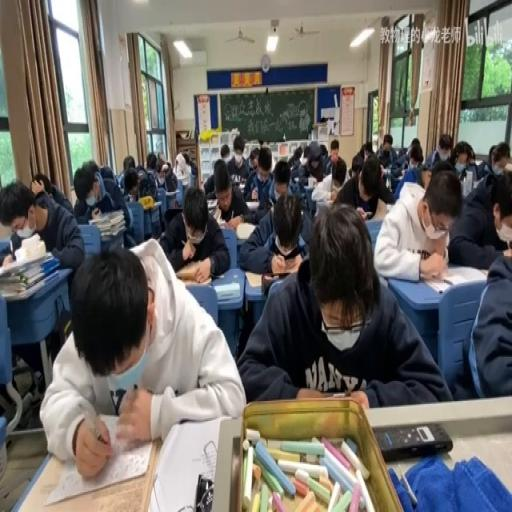calculator: (150, 414, 228, 510), (422, 263, 482, 292), (213, 282, 241, 300), (177, 270, 211, 284), (235, 222, 256, 240), (163, 188, 178, 213), (243, 269, 263, 286), (408, 165, 424, 186), (468, 174, 486, 190), (312, 193, 329, 209), (0, 237, 12, 259), (204, 196, 218, 209), (212, 205, 222, 222), (454, 162, 466, 174), (178, 174, 190, 186), (245, 199, 259, 209), (307, 176, 317, 188), (216, 218, 226, 228), (238, 182, 246, 192), (472, 158, 482, 166), (386, 202, 394, 212), (211, 273, 224, 279)
paper: (43, 238, 244, 476), (238, 202, 450, 407), (2, 175, 82, 282), (461, 248, 512, 401), (447, 156, 511, 268), (159, 184, 229, 280), (76, 162, 133, 250), (331, 154, 392, 218), (264, 154, 302, 213), (134, 164, 162, 236), (295, 140, 333, 186), (225, 135, 250, 182), (202, 150, 225, 196), (154, 155, 178, 192), (350, 141, 373, 172), (376, 134, 396, 166), (450, 141, 473, 168), (405, 138, 422, 168), (388, 161, 406, 189), (123, 173, 139, 202), (32, 171, 51, 195), (428, 158, 454, 175), (257, 148, 272, 175), (328, 138, 339, 168), (288, 145, 302, 168), (438, 135, 452, 157), (488, 142, 498, 171), (98, 160, 114, 178), (145, 152, 157, 172), (248, 148, 258, 169), (122, 154, 134, 170), (219, 142, 229, 161), (136, 168, 146, 183), (334, 171, 344, 186), (182, 151, 190, 165), (301, 144, 308, 160), (320, 142, 326, 156)
person: (374, 422, 452, 461), (194, 471, 214, 509), (260, 273, 278, 294)
